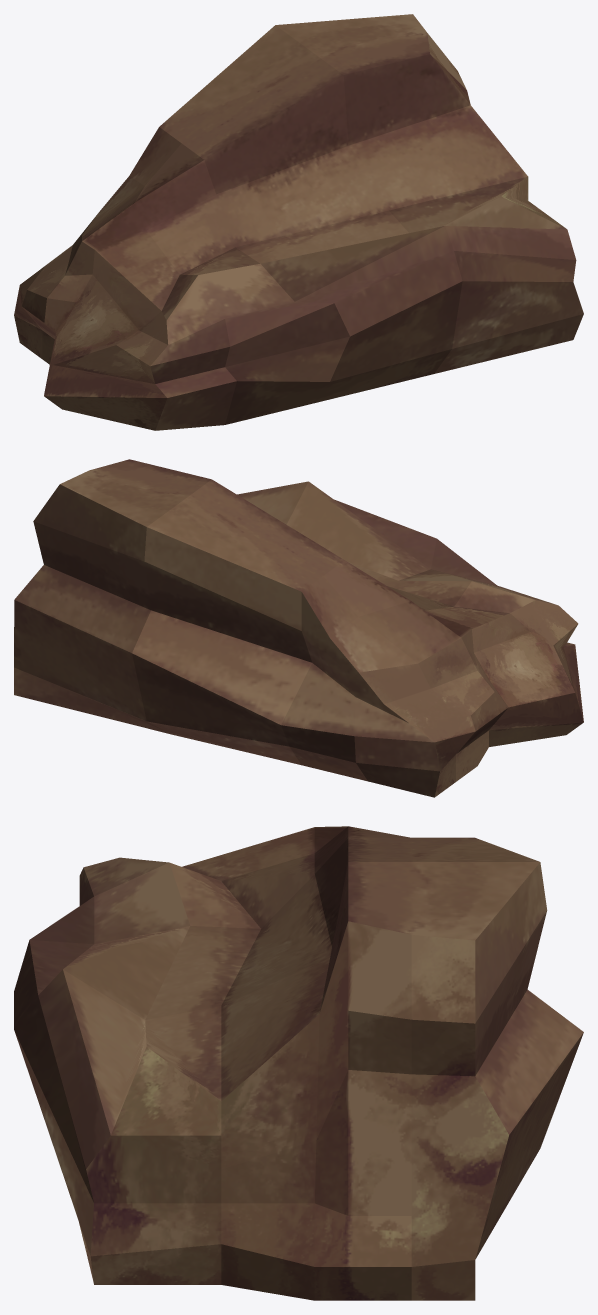
File: rock.FBX
3 renders of one model, top to bottom at view 1: azimuth 30°, elevation 25°; view 2: azimuth 150°, elevation 25°; view 3: azimuth 270°, elevation 25°, orthographic. The views are drawn at different scales.
Visible parts, largest first — view 1: Box001; view 2: Box001; view 3: Box001.
Boxes of the visible parts, left/top/right/bottom form: Box001: left=14, top=14, right=583, bottom=430; Box001: left=14, top=459, right=583, bottom=797; Box001: left=14, top=826, right=583, bottom=1300.
Size of the model in its own units: 58.6 by 25.86 by 39.75.
